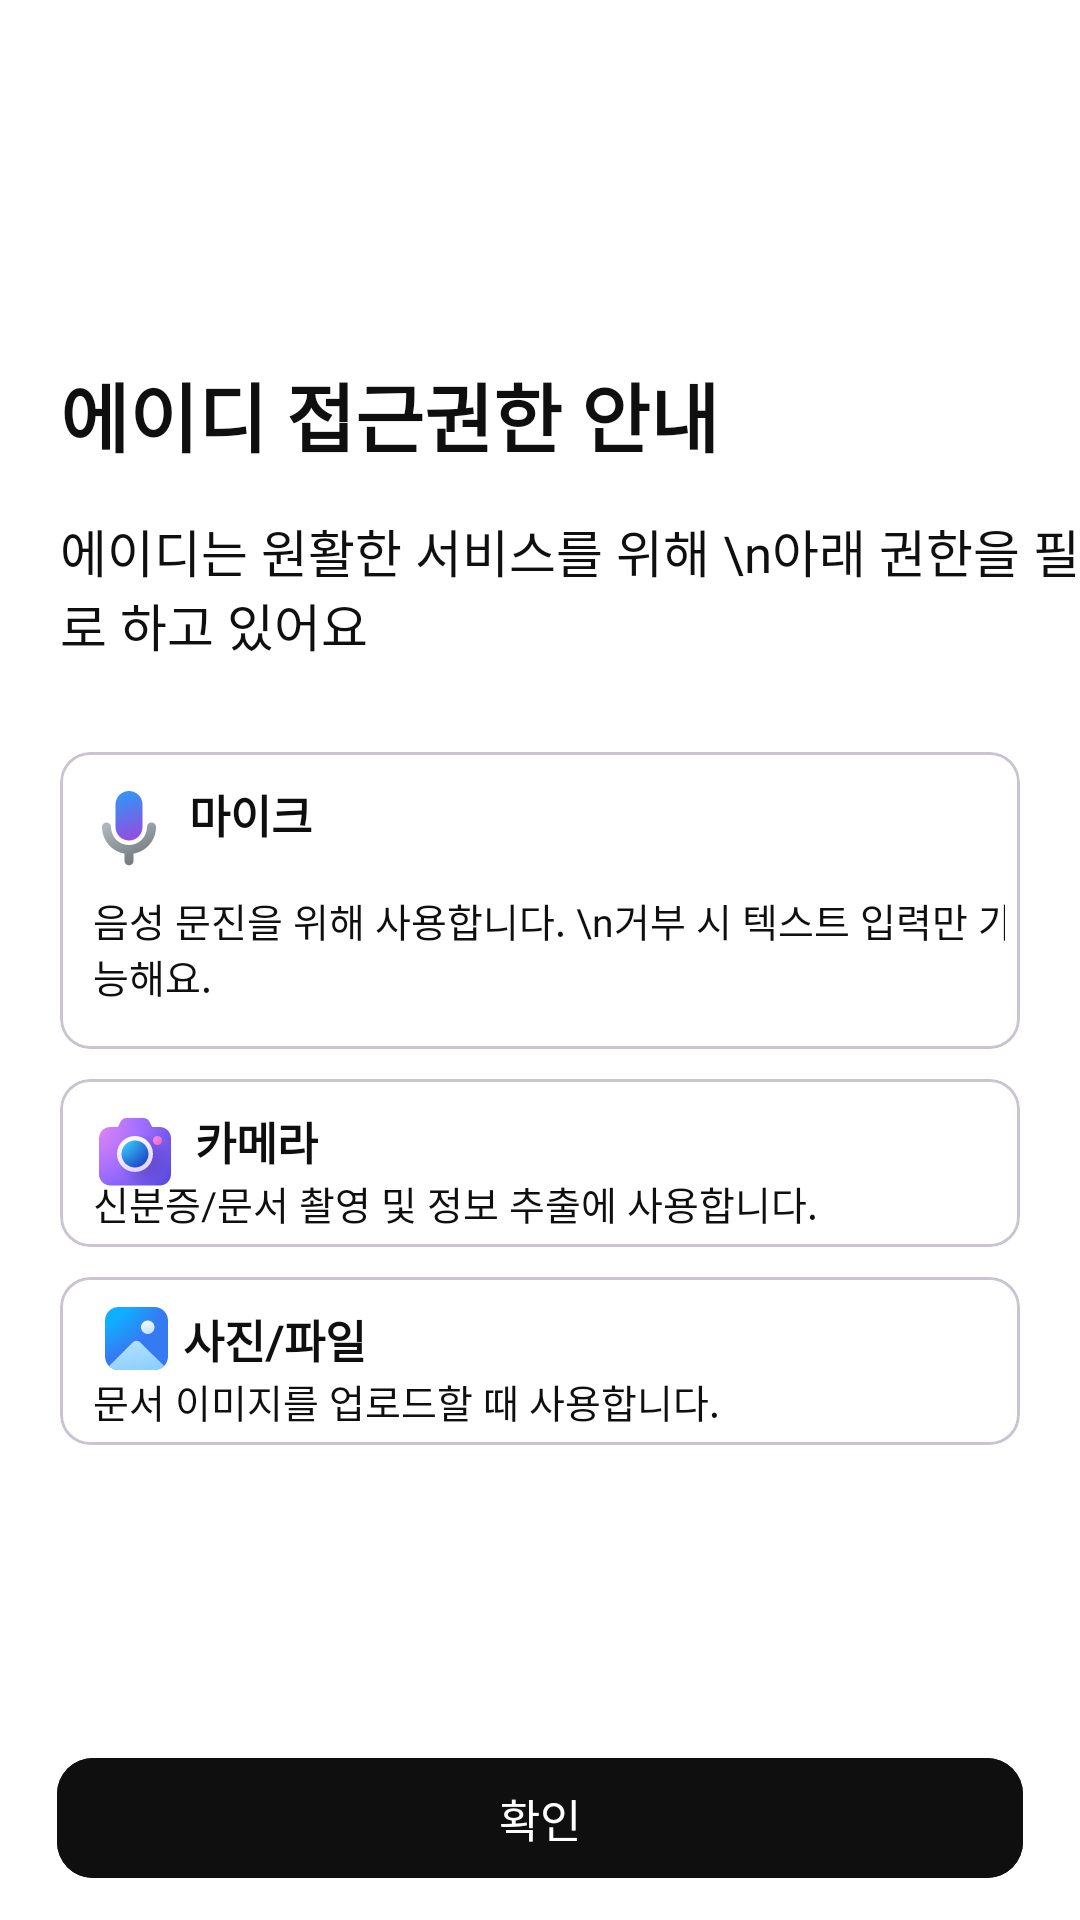

Named icons in this screenshot (1080x1920) and their centers, [x,y]:
album sv: [136,1338]
camera sv: [135,1158]
mic sv: [129,828]
